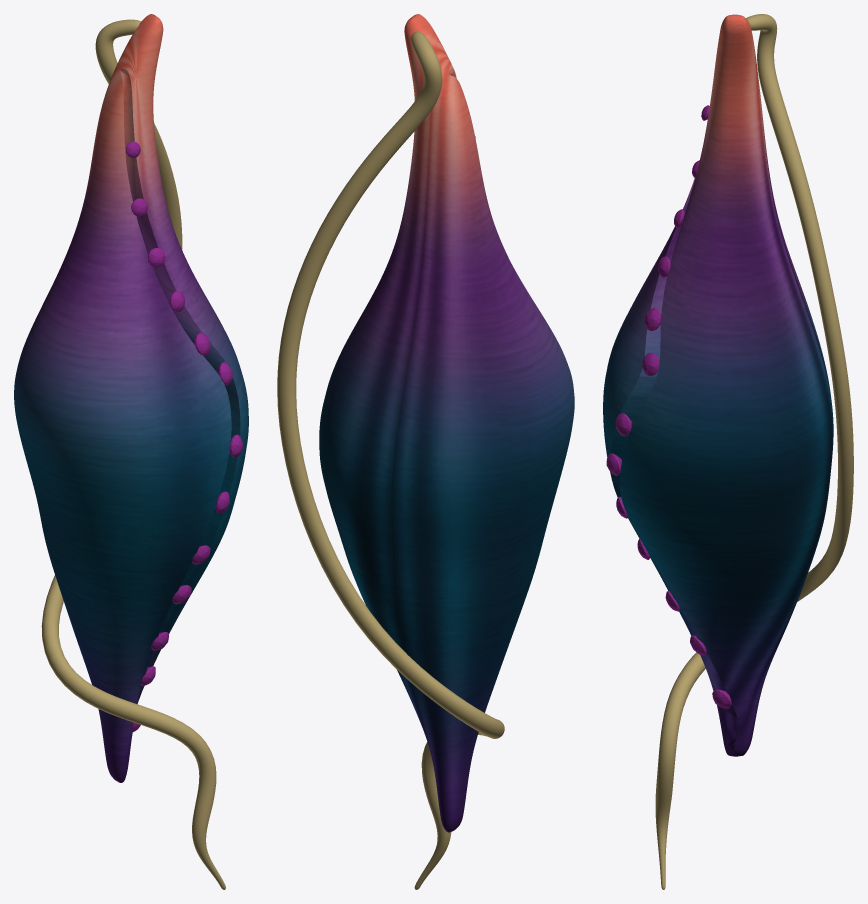
Rendered from BULBA.fbx.
The picture shows the model from 3 angles, left to right: view 1: azimuth 30°, elevation 25°; view 2: azimuth 150°, elevation 25°; view 3: azimuth 270°, elevation 25°; orthographic projection. The views are drawn at different scales.
Parts seen in each view (by area): view 1: Circle003, Line003; view 2: Circle003, Line003; view 3: Circle003, Line003.
Boxes of the visible parts, x1,y1,x2,y2 form: Circle003: (14, 14, 248, 782); Line003: (41, 19, 225, 889); Circle003: (319, 14, 574, 832); Line003: (277, 31, 504, 889); Circle003: (603, 14, 833, 756); Line003: (655, 14, 853, 889).
Size of the model in its own units: 51.87 by 202 by 53.52.
3 materials, 1 textured.
